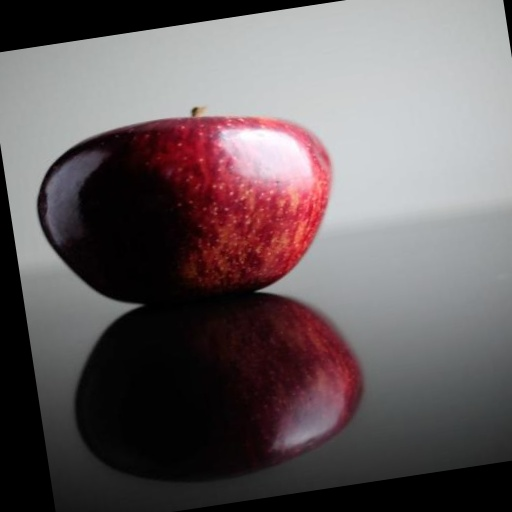fruit: (37, 117, 330, 303), (76, 293, 360, 480)
